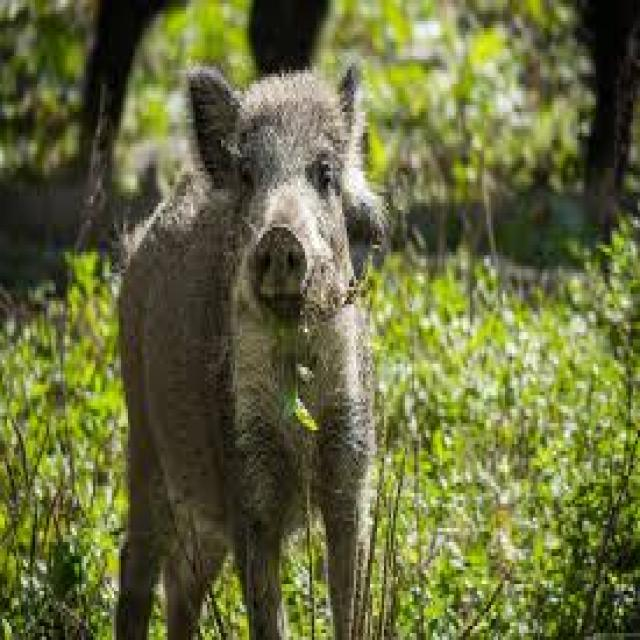boar: (86, 24, 475, 640)
